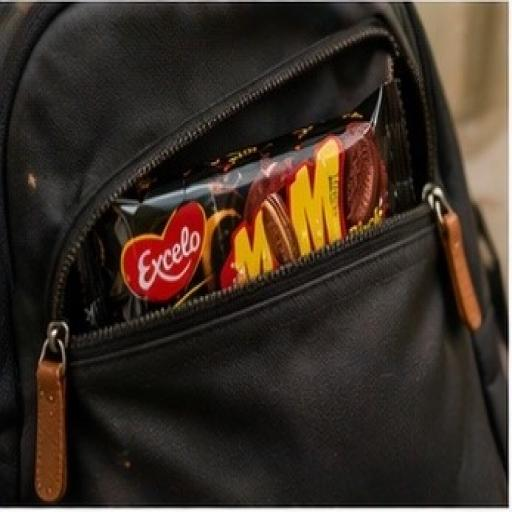MOMO: (73, 119, 472, 318)
